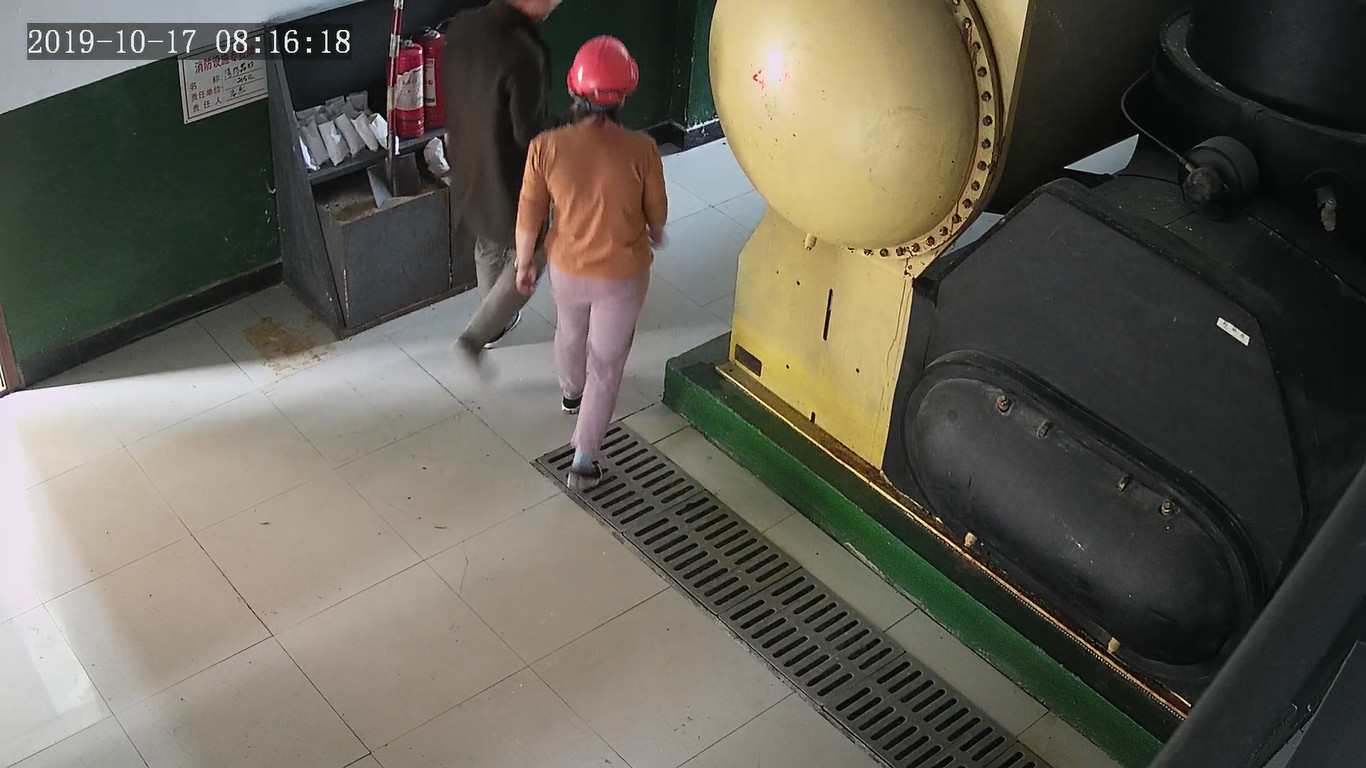helmet: (566, 35, 639, 106)
